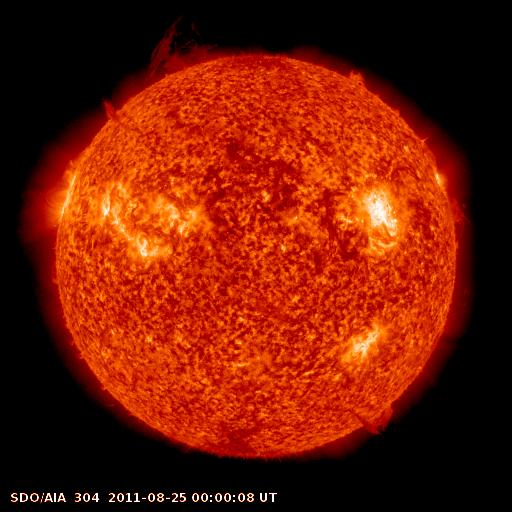prominence: (135, 2, 235, 83), (348, 399, 398, 442), (89, 85, 128, 128), (341, 55, 375, 92), (437, 195, 477, 226)
